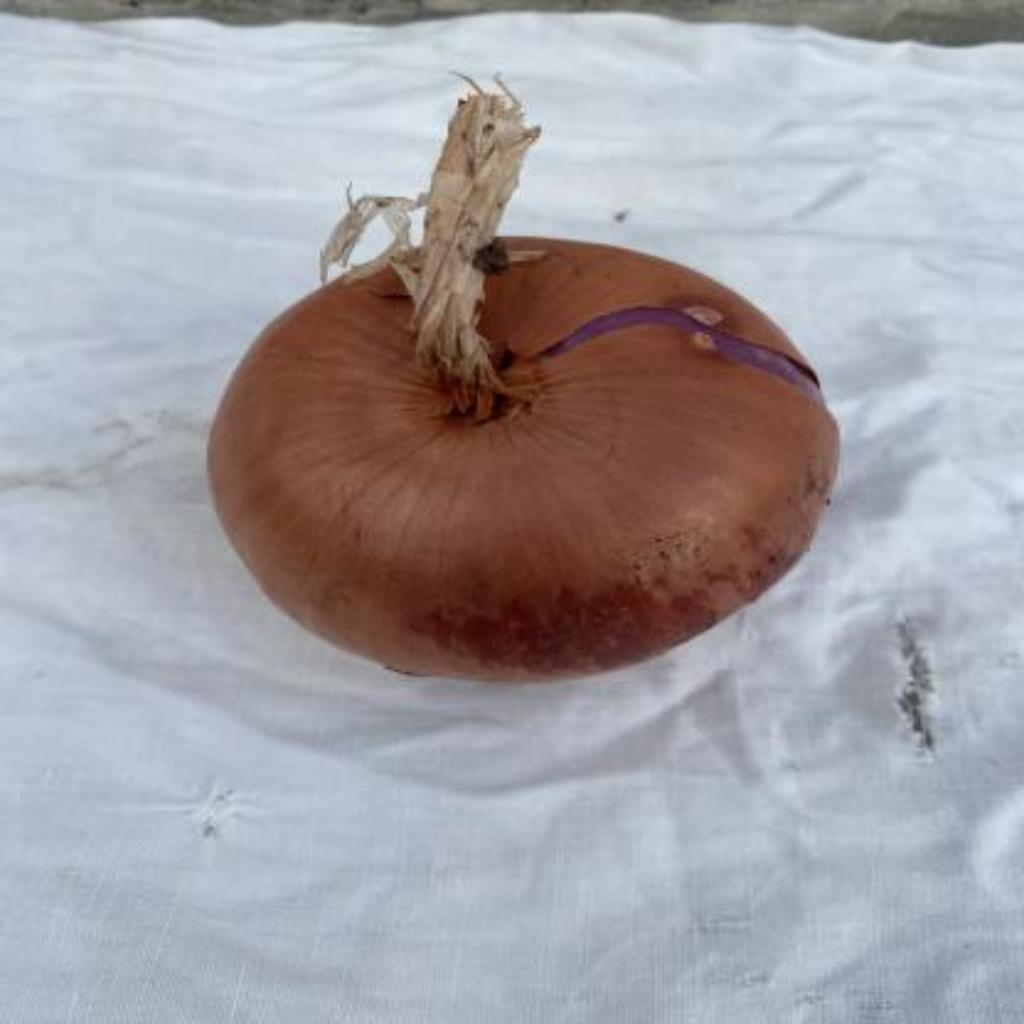Onion: (209, 84, 842, 678)
